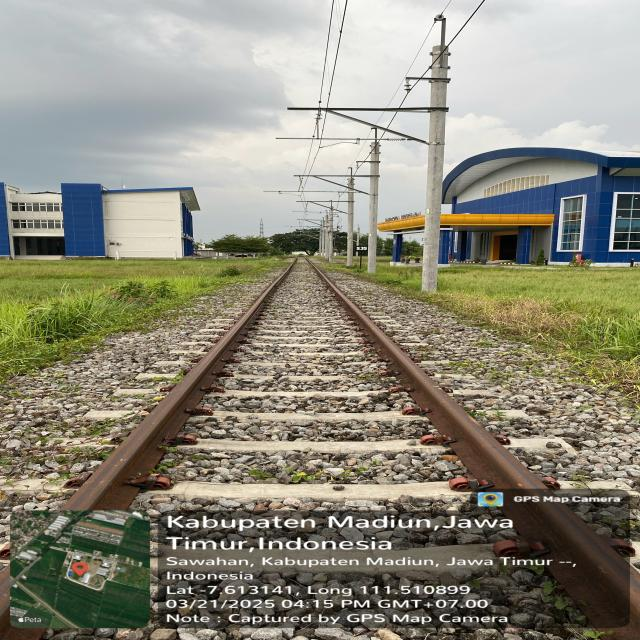rail-detection: (311, 263, 640, 640), (61, 264, 293, 511)
